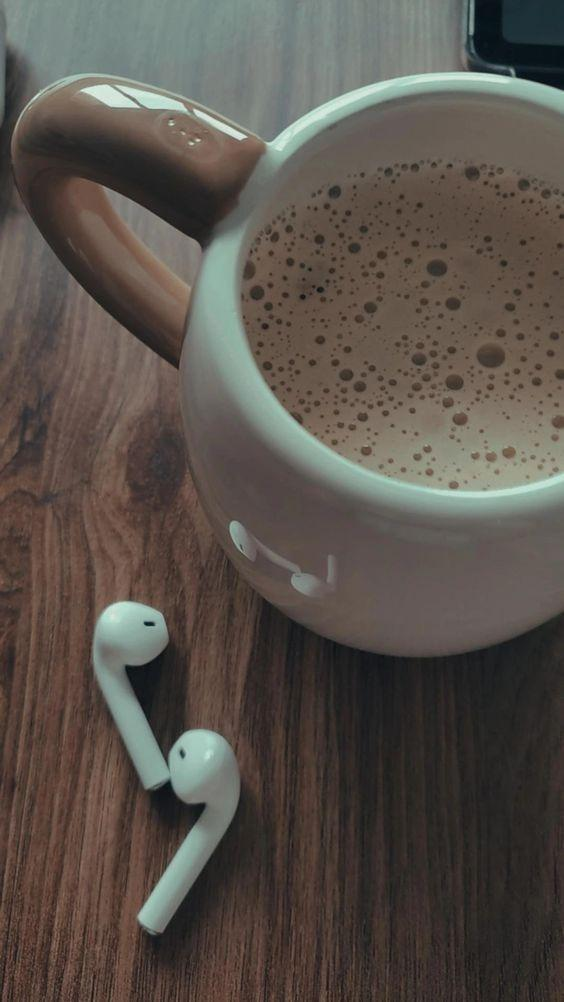cup-handle: (10, 60, 563, 666)
